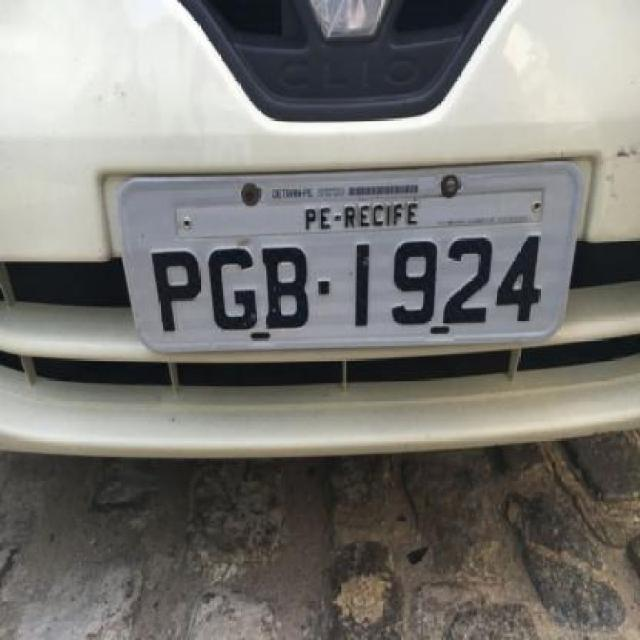old_plate: (112, 149, 592, 363)
